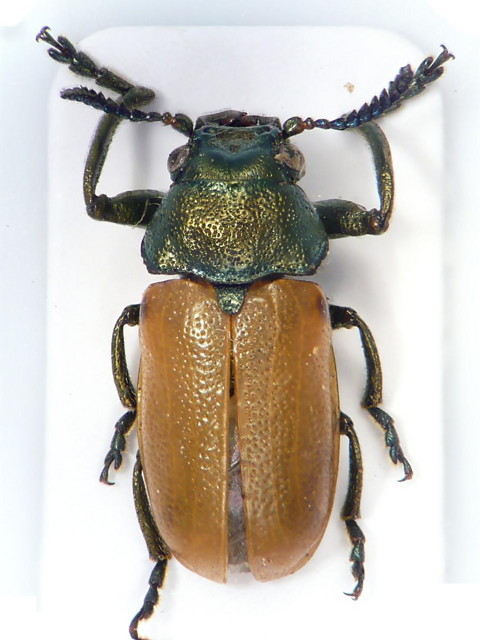Labidostomis_longimana: (24, 20, 460, 640)
